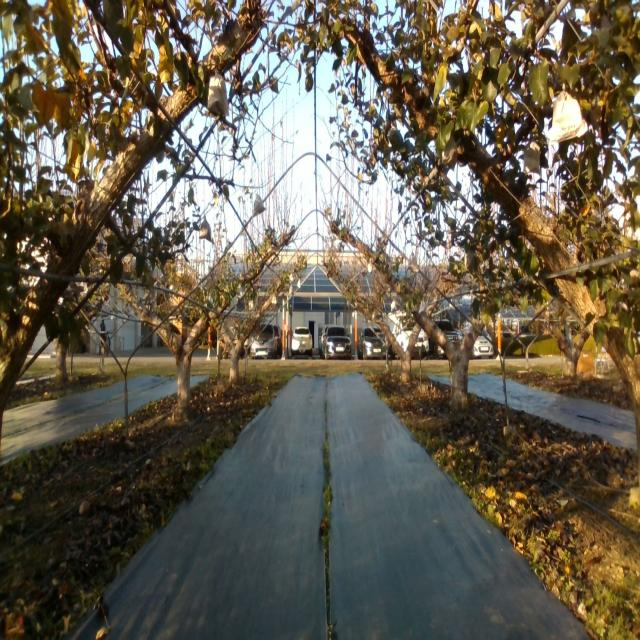pearbags: (551, 84, 589, 142), (208, 68, 230, 117), (524, 142, 541, 175), (200, 215, 212, 242), (406, 251, 419, 274), (254, 194, 266, 217)
